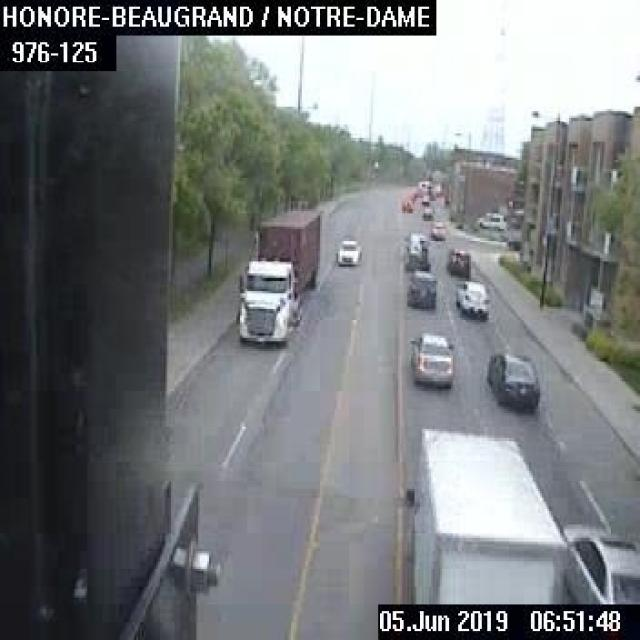vehicle: (406, 427, 564, 600), (235, 206, 318, 344), (562, 521, 638, 604), (485, 350, 538, 410), (407, 331, 453, 389), (453, 279, 488, 319), (404, 269, 436, 307), (401, 230, 428, 272), (444, 246, 470, 277), (334, 237, 359, 264), (475, 210, 505, 230), (429, 219, 446, 239), (400, 198, 412, 211), (420, 206, 432, 219)
